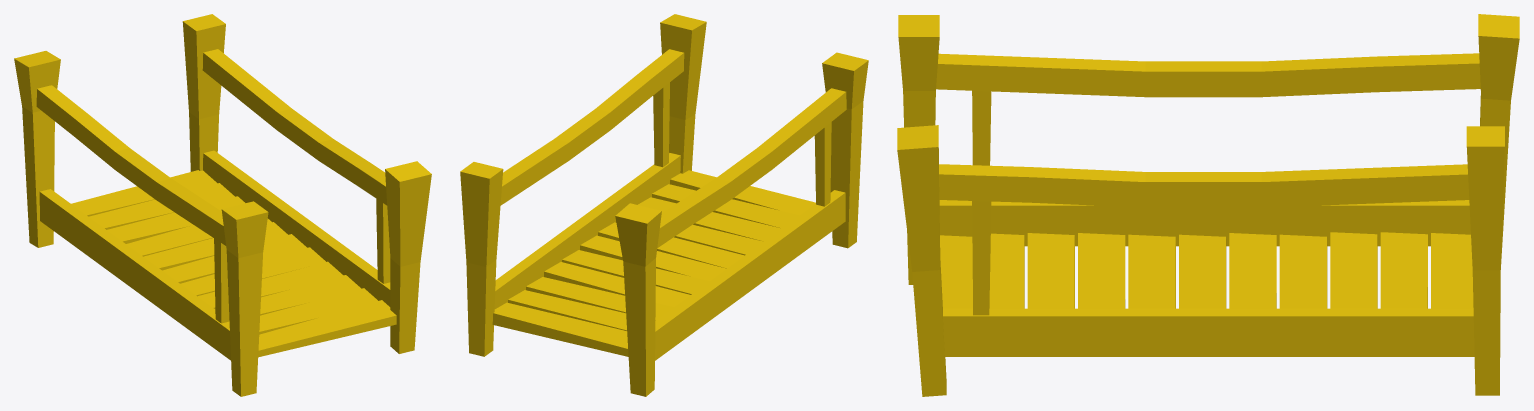
The model's file is Bridgex4.fbx.
3 views of the same model, side by side, from view 1: azimuth 30°, elevation 25°; view 2: azimuth 150°, elevation 25°; view 3: azimuth 270°, elevation 25° (orthographic). The views are drawn at different scales.
Parts seen in each view (by area): view 1: Bridge_04; view 2: Bridge_04; view 3: Bridge_04.
Part boxes in pixels (<box>): Bridge_04: <box>14,14,431,396</box>; Bridge_04: <box>460,14,868,396</box>; Bridge_04: <box>897,14,1519,396</box>.
Bounding box in the file's own units: 215 × 193 × 425.
